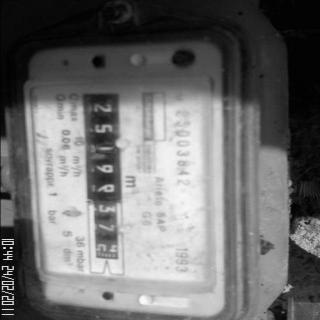2: (96, 145, 114, 153)
3: (91, 102, 113, 114)
4: (97, 204, 117, 215)
6: (94, 124, 115, 135)
8: (98, 223, 117, 233)
:: (96, 182, 116, 194), (94, 164, 114, 174)
